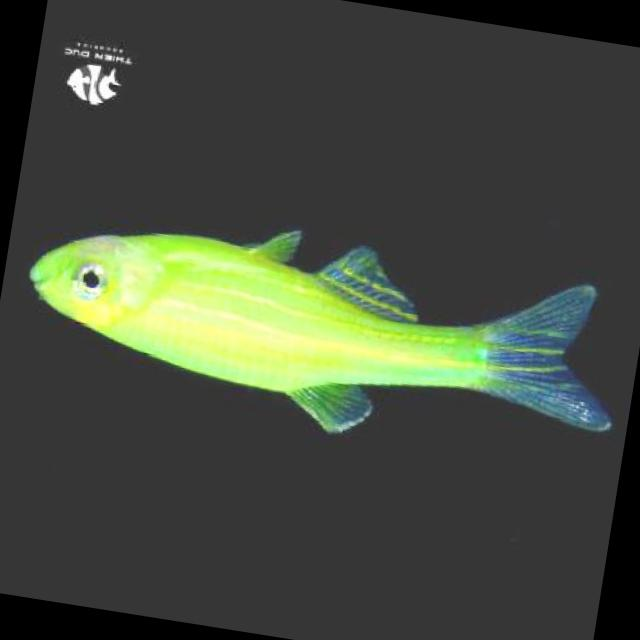ZebraFish: (12, 198, 631, 480)
